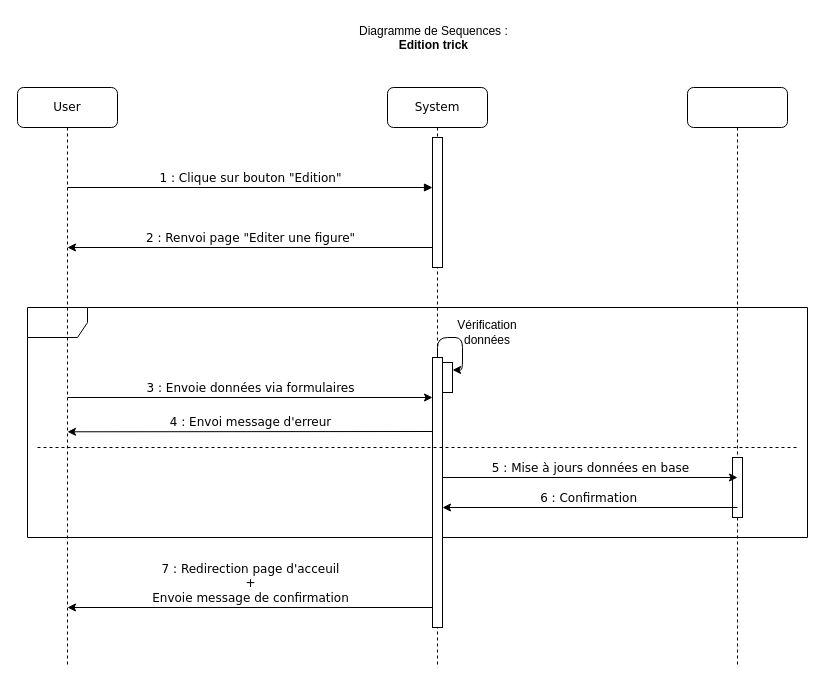
This 825x685 diagram has some shape labels left out. The box of each missing label's shape, as (x1, y1, x2, y2) in pixels:
alt: (26, 306, 808, 538)
BDD: (686, 86, 788, 668)
